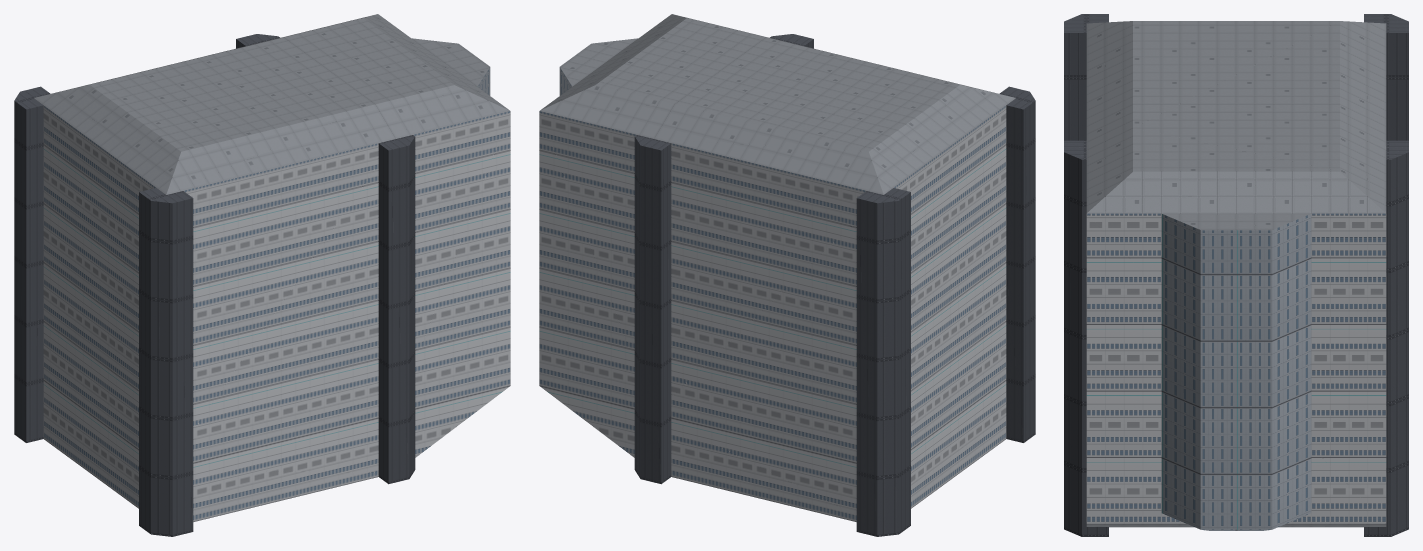
The model's file is BLD_TOP_N_Tower.fbx.
The picture shows the model from 3 angles, left to right: view 1: azimuth 30°, elevation 25°; view 2: azimuth 150°, elevation 25°; view 3: azimuth 270°, elevation 25°; orthographic projection. The views are drawn at different scales.
Parts seen in each view (by area): view 1: BLD_TOP_N_Tower; view 2: BLD_TOP_N_Tower; view 3: BLD_TOP_N_Tower.
Boxes of the visible parts, x1,y1,x2,y2 form: BLD_TOP_N_Tower: (14, 14, 510, 536); BLD_TOP_N_Tower: (539, 14, 1035, 536); BLD_TOP_N_Tower: (1064, 14, 1408, 536).
Size of the model in its own units: 171 by 147 by 115.
